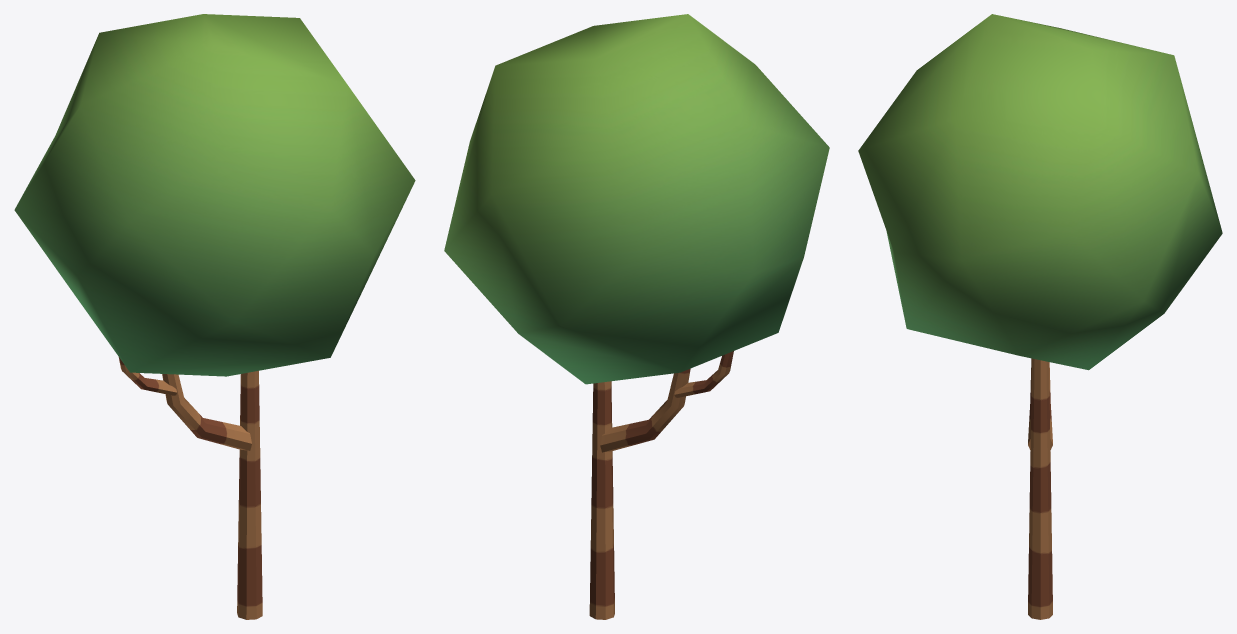
The model's file is Trees_RoundTree4.fbx.
3 views of the same model, side by side, from view 1: azimuth 30°, elevation 25°; view 2: azimuth 150°, elevation 25°; view 3: azimuth 270°, elevation 25° (orthographic). The views are drawn at different scales.
Visible parts, largest first — view 1: RoundTree4; view 2: RoundTree4; view 3: RoundTree4.
Boxes of the visible parts, bbox=[...] form: RoundTree4: bbox=[14, 14, 415, 619]; RoundTree4: bbox=[444, 14, 829, 619]; RoundTree4: bbox=[858, 14, 1222, 619].
Bounding box in the file's own units: 245 × 443 × 256.
1 material, 1 textured.
